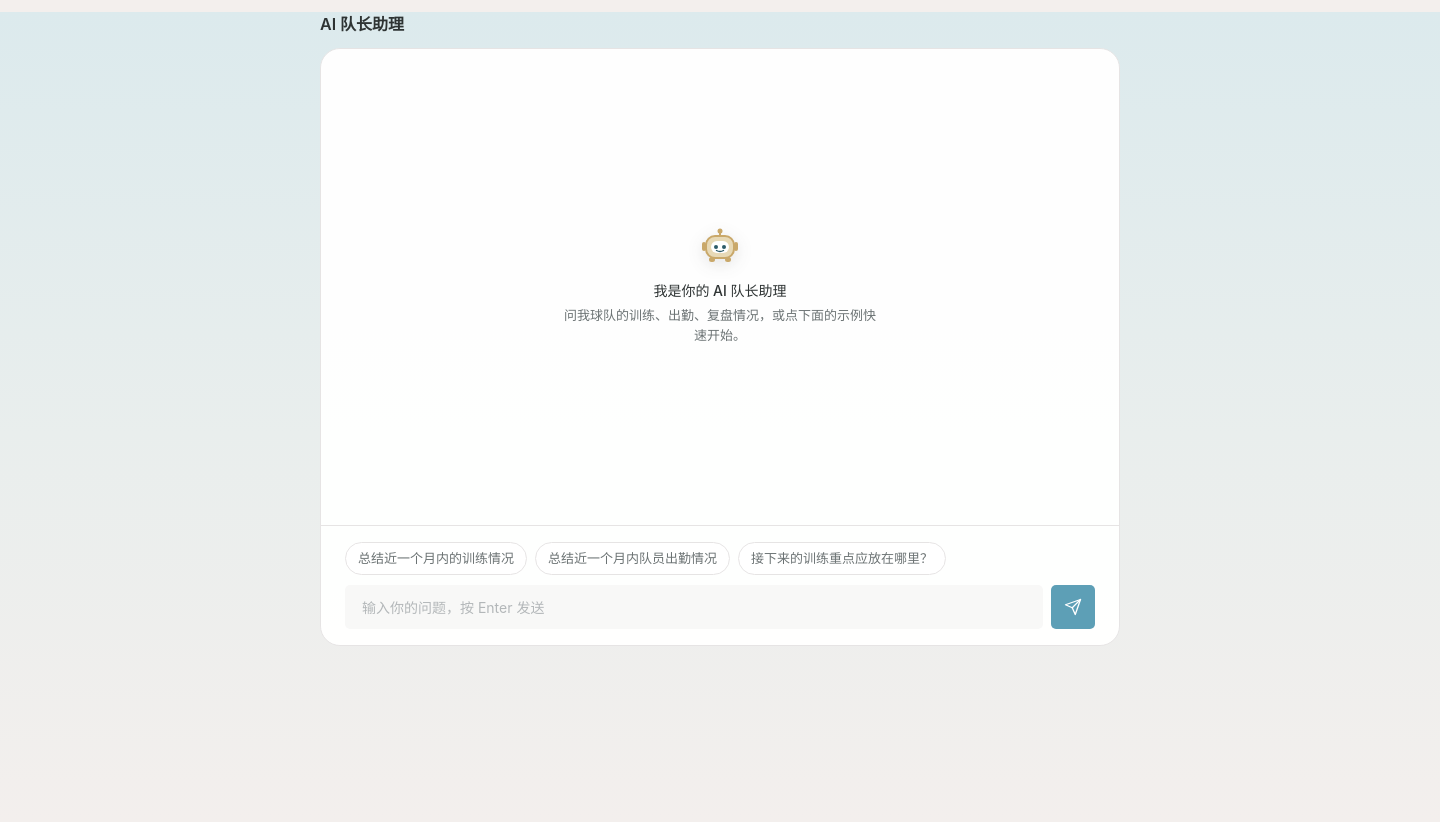
Assistant › sends a question and shows judgment + basis
Type "近一月训练情况？" into the field named "提问输入" at (694, 607), box [345,585,1043,629]
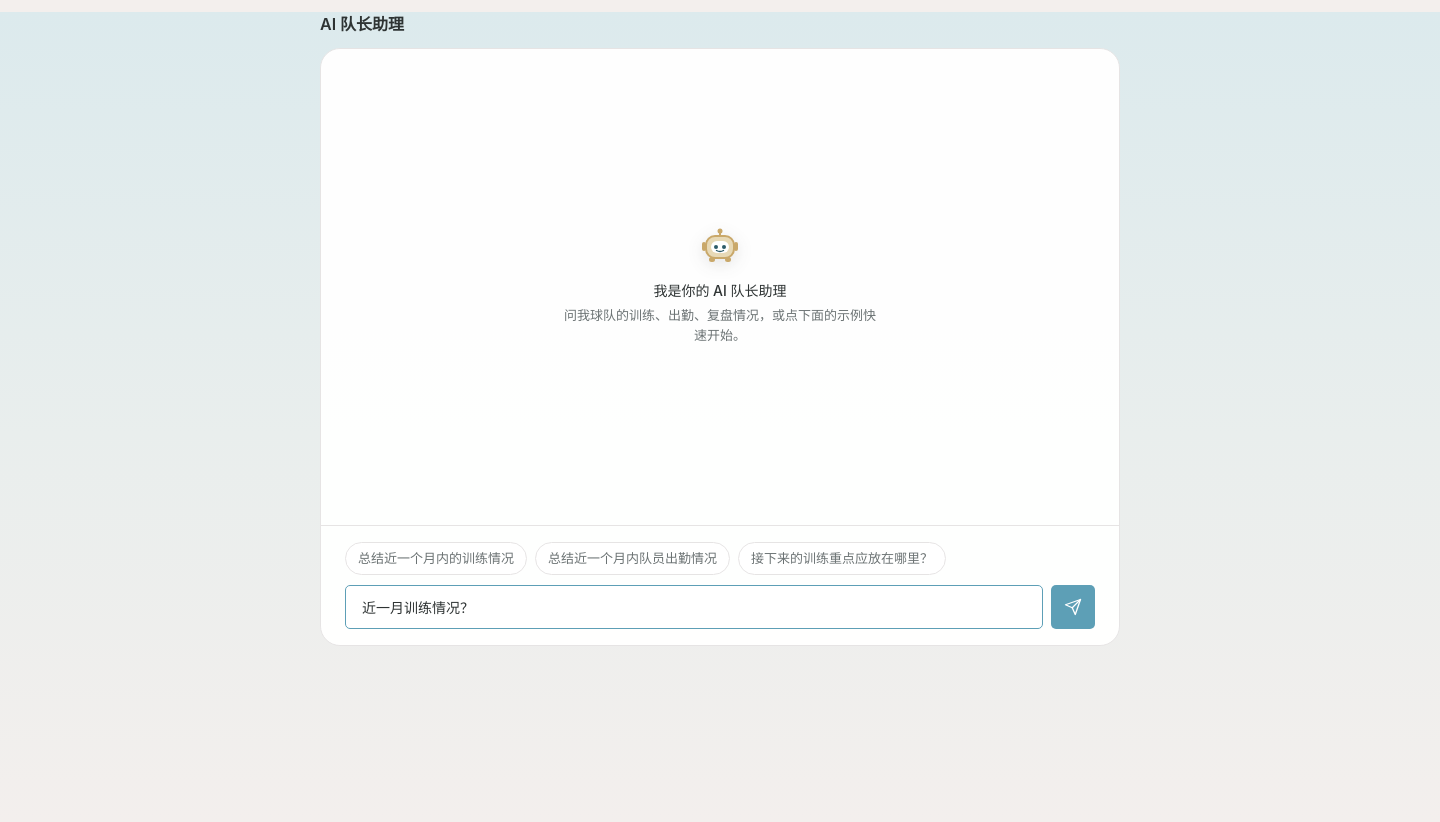
Click the button named "发送" at (1073, 607), box [1051,585,1095,629]
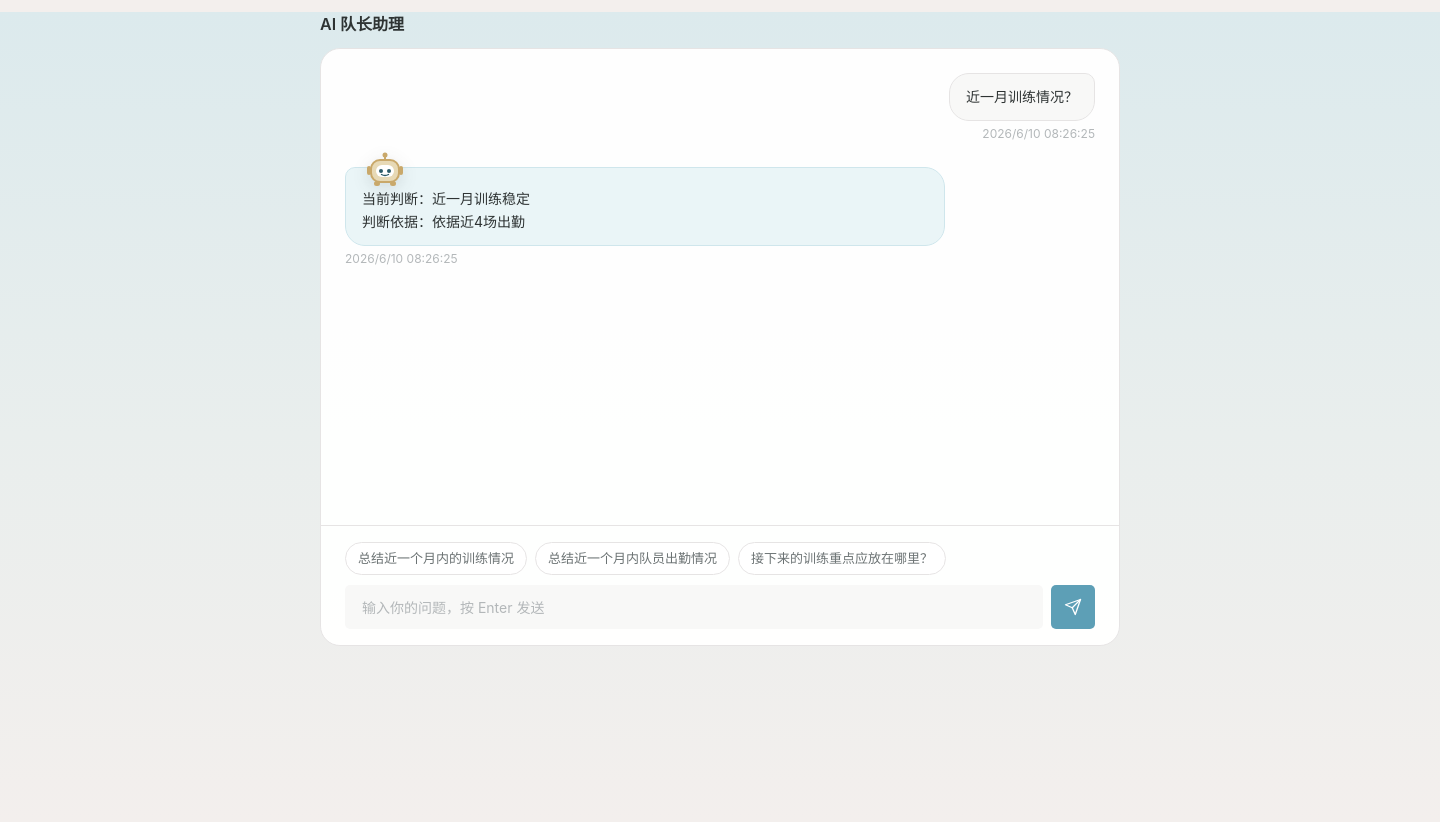
Expected: the text "当前判断：近一月训练稳定 判断依据：依据近4场出勤" is shown, [345,167,945,246]
